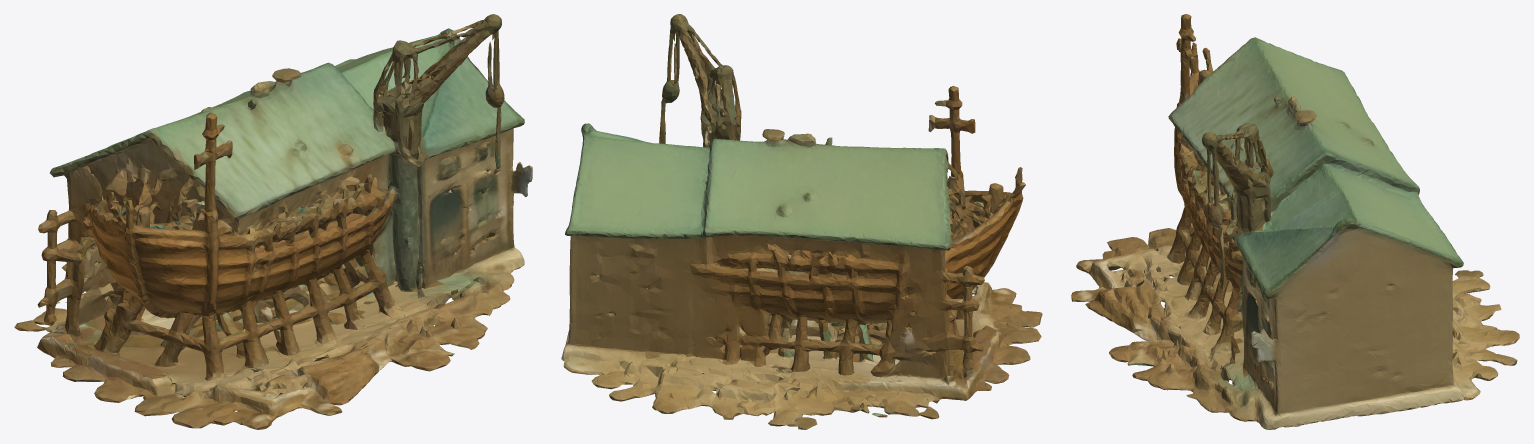
The model's file is wc-shipyard-paint.glb.
3 renders of one model, left to right at view 1: azimuth 30°, elevation 25°; view 2: azimuth 150°, elevation 25°; view 3: azimuth 270°, elevation 25°, orthographic. The views are drawn at different scales.
Parts seen in each view (by area): view 1: geometry_0; view 2: geometry_0; view 3: geometry_0.
Part boxes in pixels (<box>): geometry_0: <box>14,14,532,429</box>; geometry_0: <box>561,14,1042,429</box>; geometry_0: <box>1071,14,1519,429</box>.
Bounding box in the file's own units: 2 × 1.21 × 1.79.
1 material, 1 textured.
